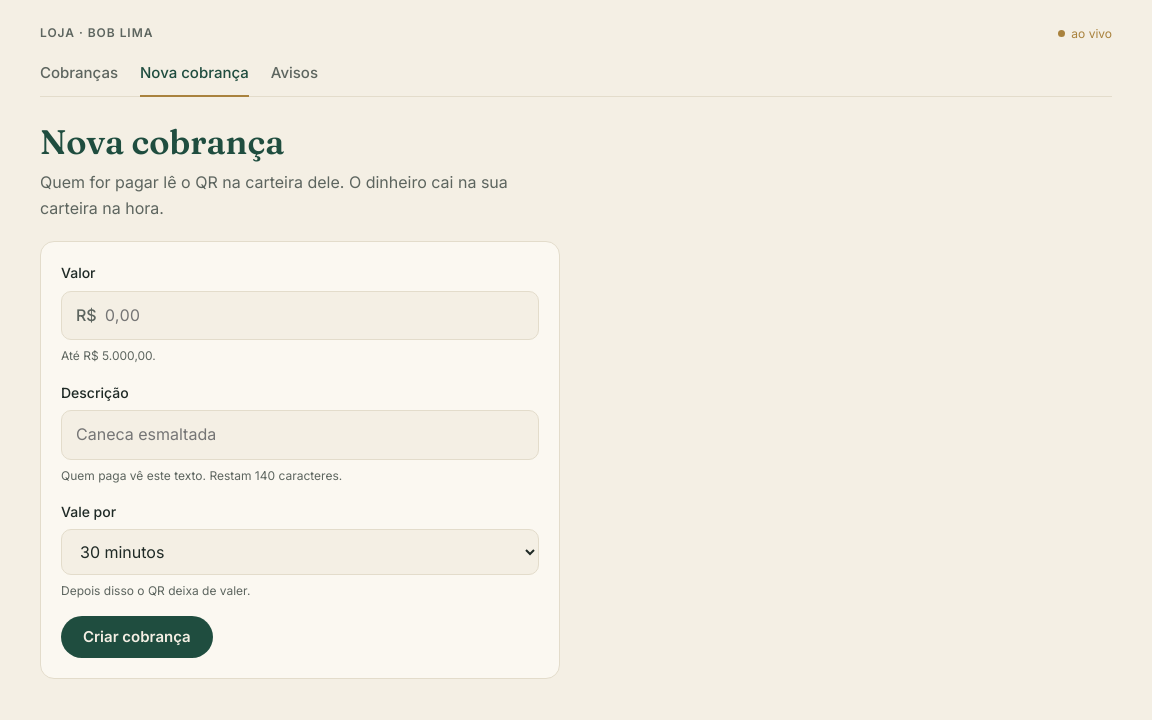
Test: Nova cobrança › confere antes de mandar: valor, máximo e descrição
Click the button "Criar cobrança" at (137, 637), box x1=61 y1=616 x2=213 y2=658
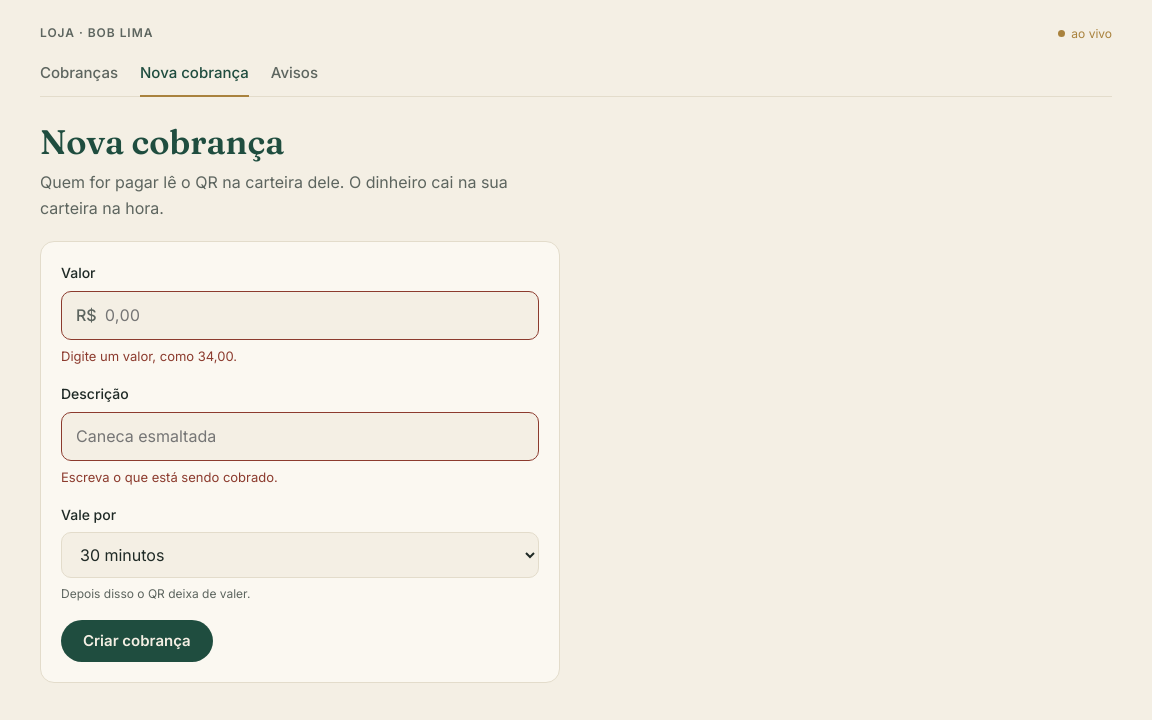
expect the text "Digite um valor, como 34,00." is shown: met, box x1=61 y1=348 x2=237 y2=364
expect the text "Escreva o que está sendo cobrado." is shown: met, box x1=61 y1=469 x2=278 y2=485
Type "5000,01" into the field labelled "Valor" at (317, 316), box x1=97 y1=292 x2=538 y2=340
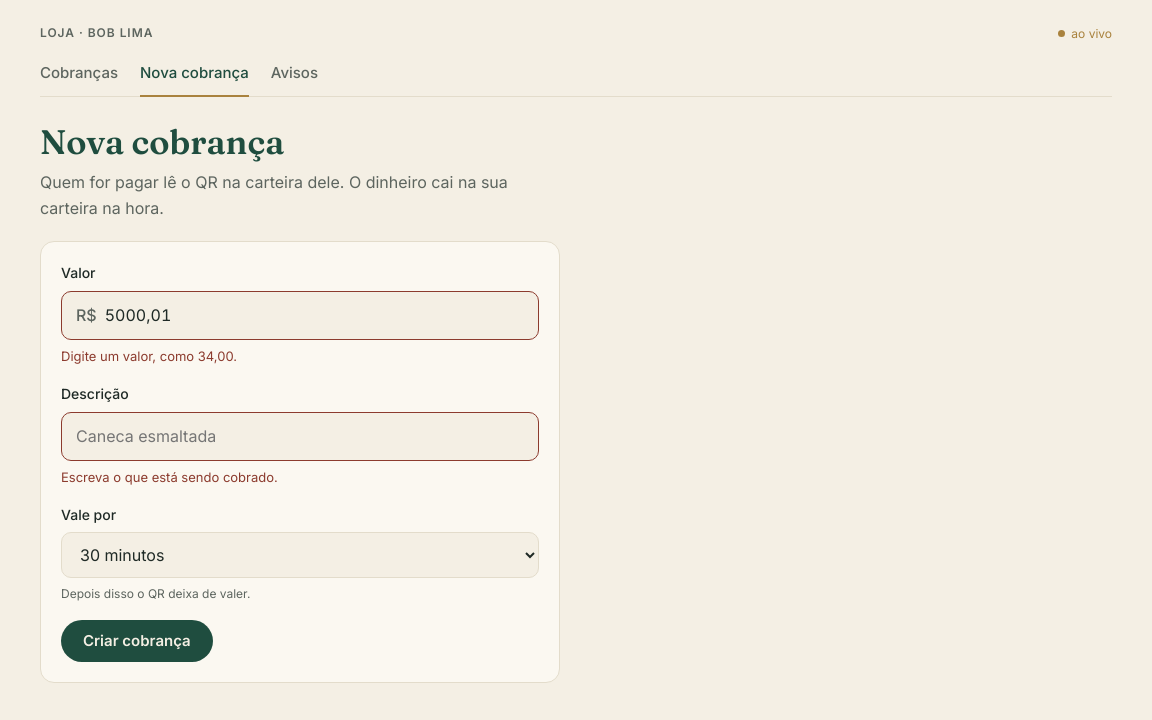
Type "Mesa" into the field labelled "Descrição" at (300, 436), box x1=61 y1=412 x2=539 y2=461
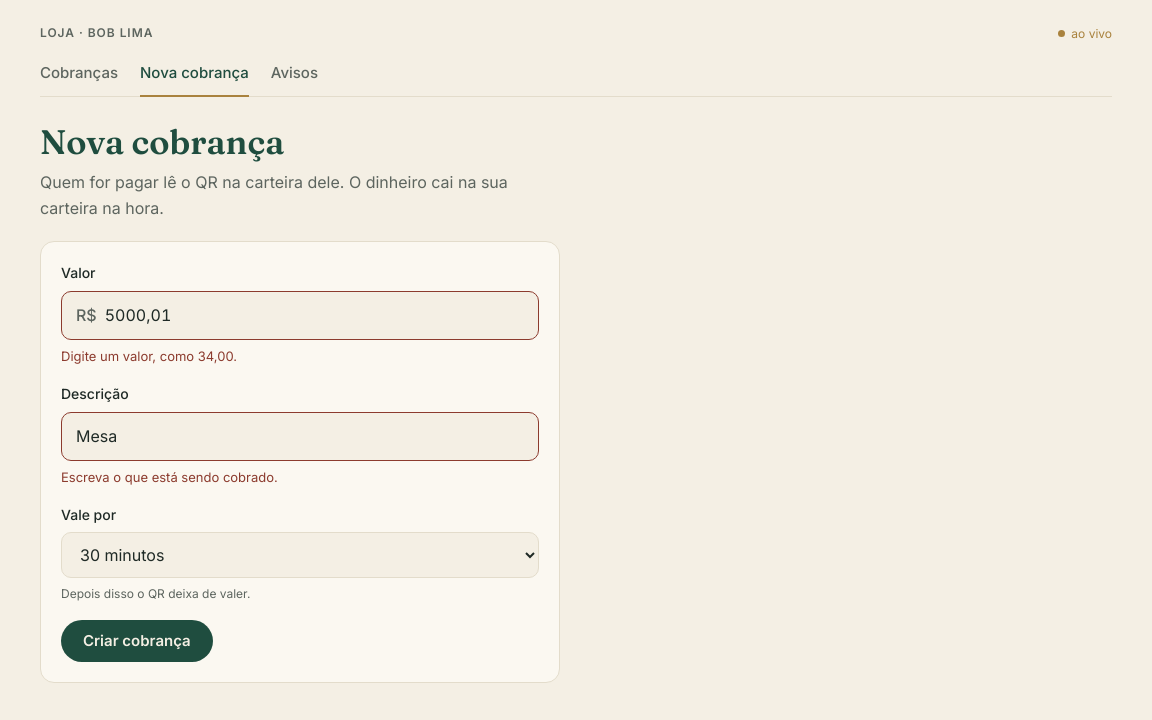
Click the button "Criar cobrança" at (137, 641), box x1=61 y1=620 x2=213 y2=662
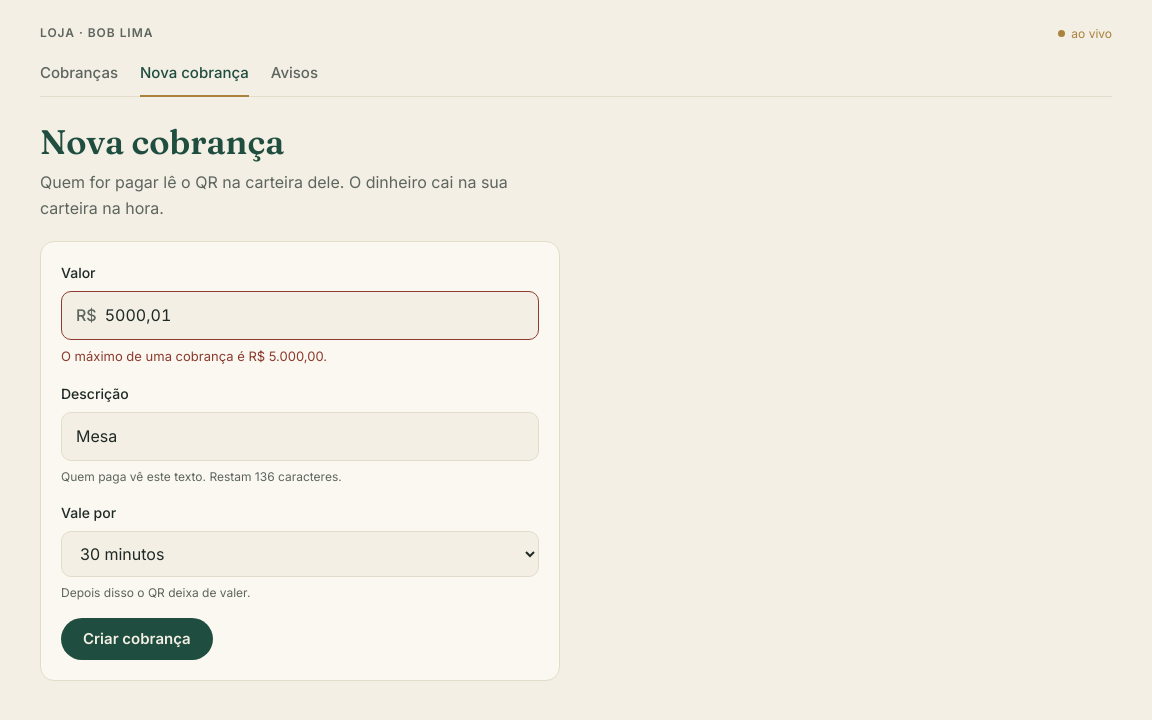
expect the text "O máximo de uma cobrança é R$ 5.000,00." is shown: met, box x1=61 y1=348 x2=327 y2=364
Replace the text in the field labelled "Valor" with "0" at (317, 316), box x1=97 y1=292 x2=538 y2=340
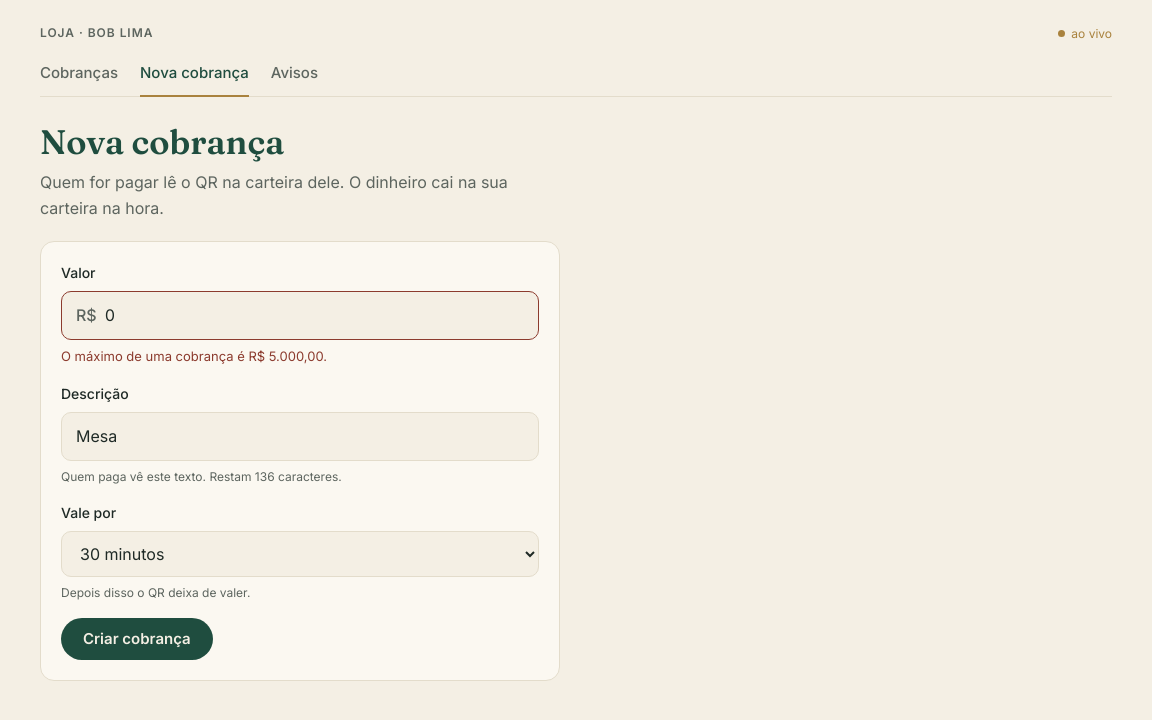
Click the button "Criar cobrança" at (137, 639), box x1=61 y1=618 x2=213 y2=660
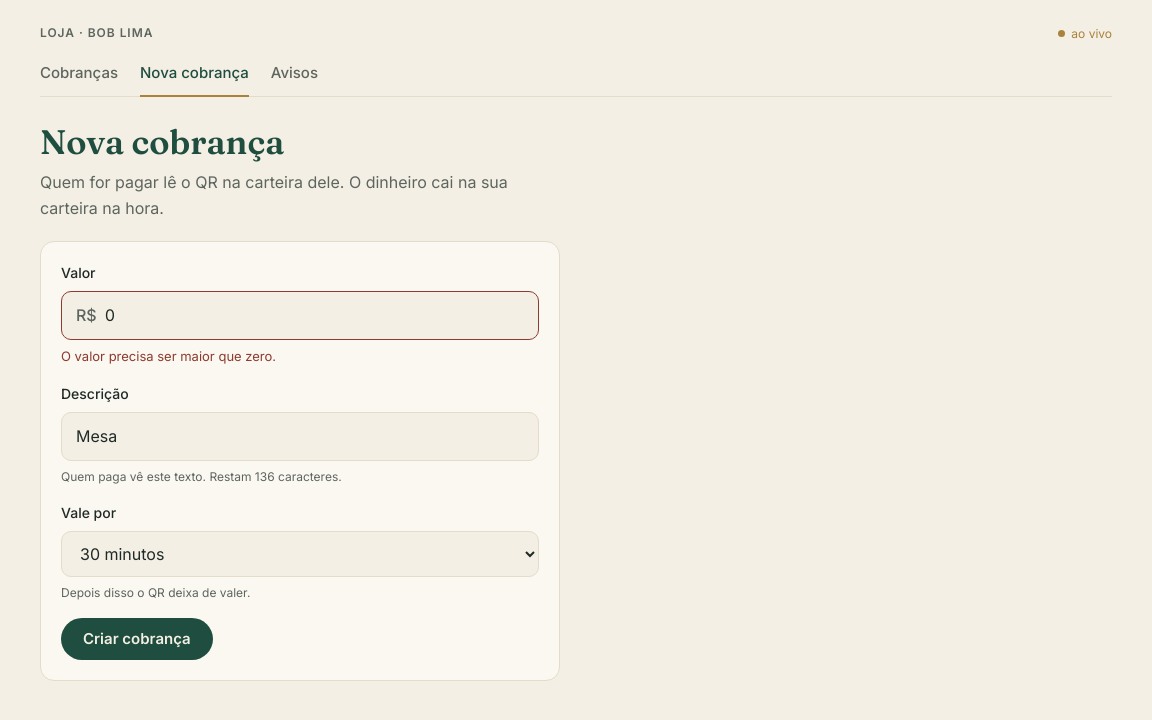
expect the text "O valor precisa ser maior que zero." is shown: met, box x1=61 y1=348 x2=276 y2=364
